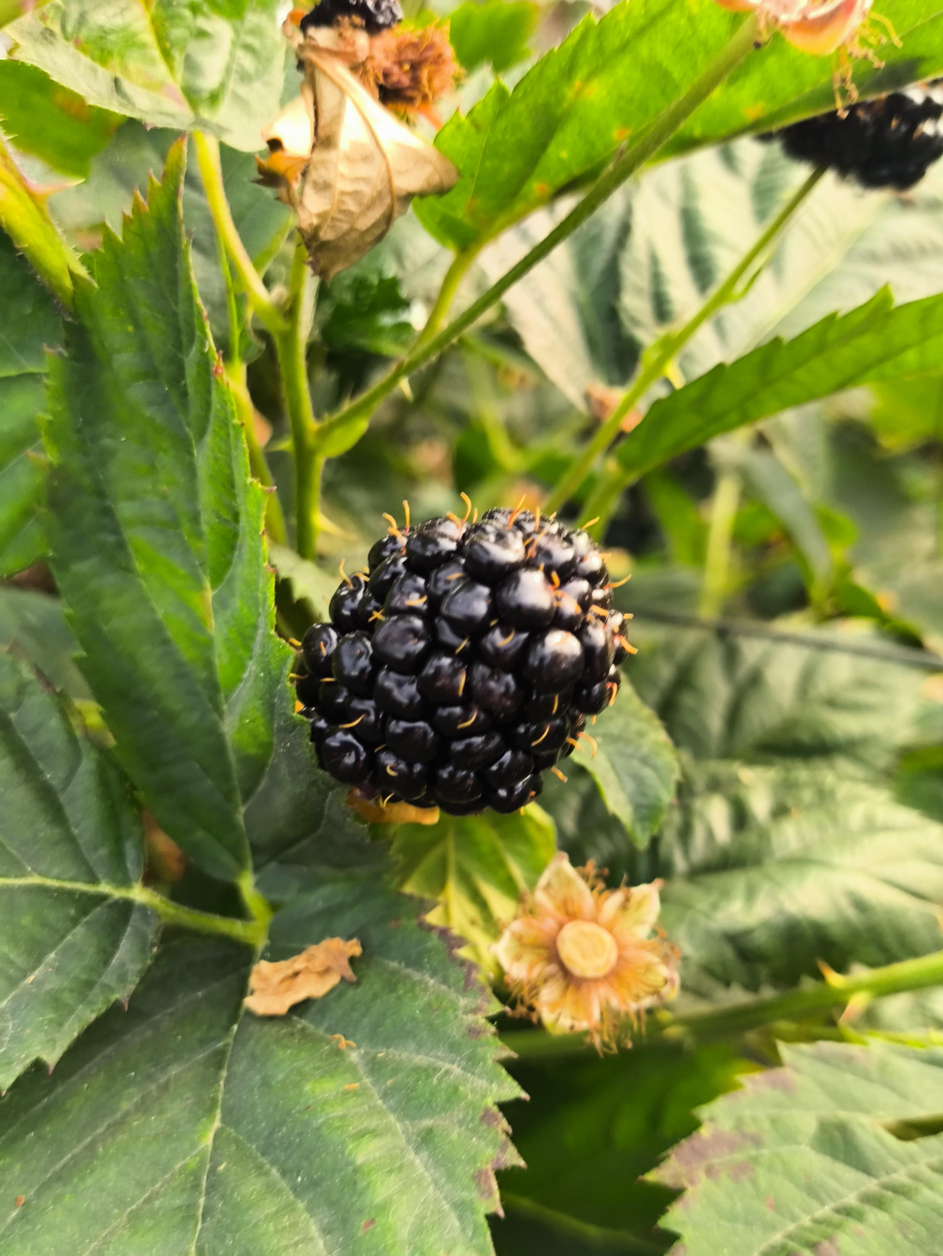maduro: (315, 507, 622, 804)
